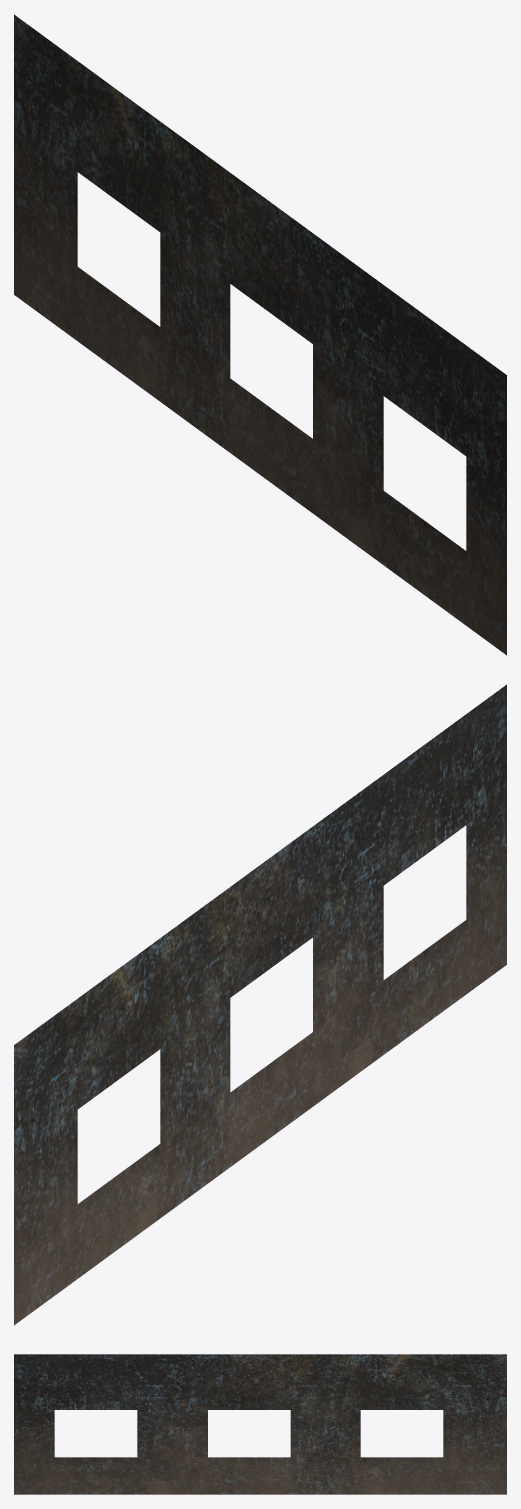
Rendered from Wall_07.FBX.
3 views of the same model, one above another, from view 1: azimuth 30°, elevation 25°; view 2: azimuth 150°, elevation 25°; view 3: azimuth 270°, elevation 25° (orthographic). The views are drawn at different scales.
Visible parts, largest first — view 1: Wall_07; view 2: Wall_07; view 3: Wall_07.
Boxes of the visible parts, left/top/right/bottom form: Wall_07: left=14, top=14, right=506, bottom=655; Wall_07: left=14, top=684, right=506, bottom=1325; Wall_07: left=14, top=1354, right=506, bottom=1494.
Bounding box in the file's own units: 0.000265 × 511 × 1629.
